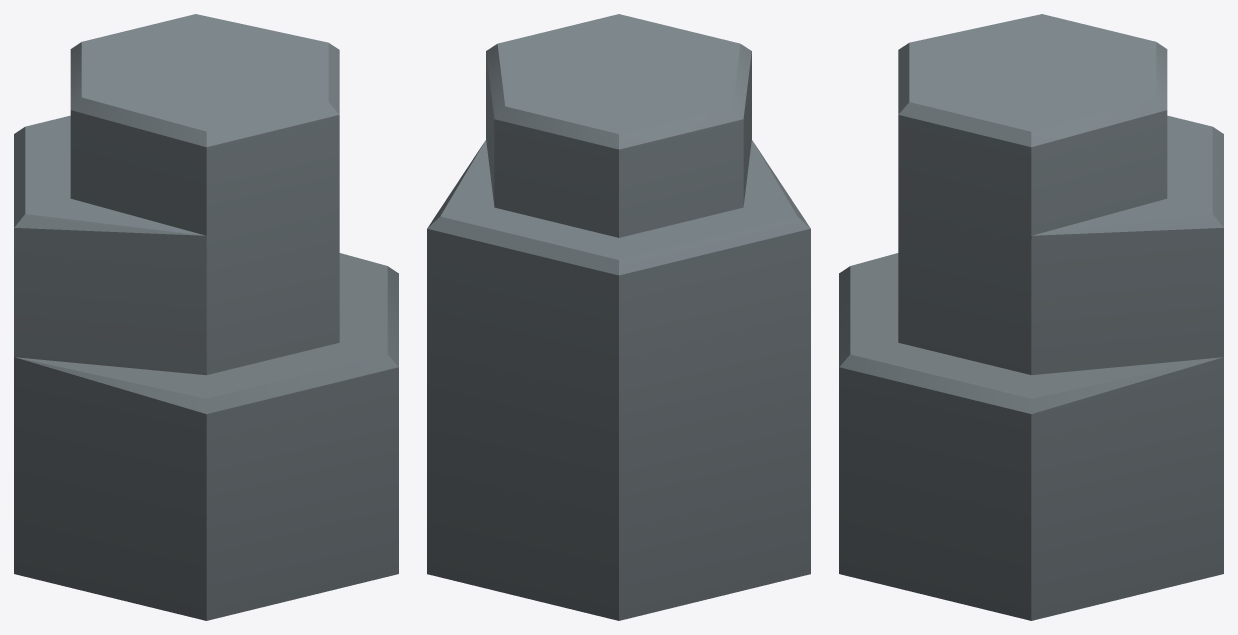
The model's file is Rock_1_F_Color1.glb.
The picture shows the model from 3 angles, left to right: view 1: azimuth 30°, elevation 25°; view 2: azimuth 150°, elevation 25°; view 3: azimuth 270°, elevation 25°; orthographic projection.
Visible parts, largest first — view 1: Rock_1_F_Color1; view 2: Rock_1_F_Color1; view 3: Rock_1_F_Color1.
Boxes of the visible parts, box(x1,y1,x2,y2) form: Rock_1_F_Color1: box(14, 14, 398, 620); Rock_1_F_Color1: box(427, 14, 810, 620); Rock_1_F_Color1: box(839, 14, 1223, 620).
Bounding box in the file's own units: 1 × 1.13 × 0.866.
Materials: 1 (1 with a texture image).
